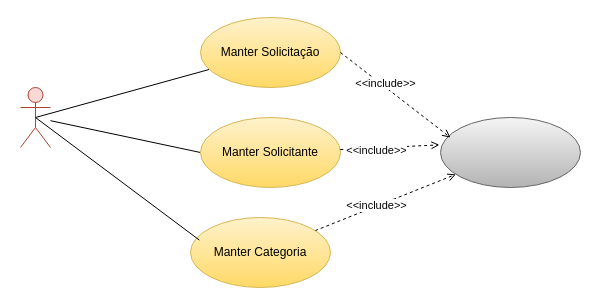
This 598x305 diagram has some shape labels left out. Here are the shapes that lost their labels. From the top down, the centre of each, then its label:
At (x=35, y=117): "Gestor".
At (x=510, y=152): "Fazer Login".
